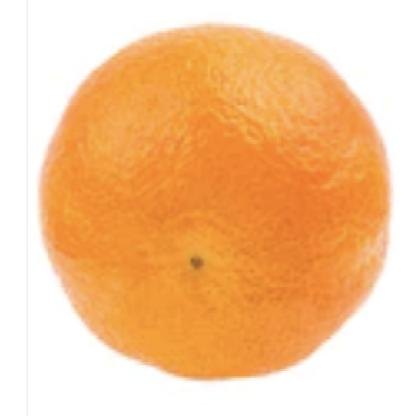fresh: (37, 23, 397, 383)
